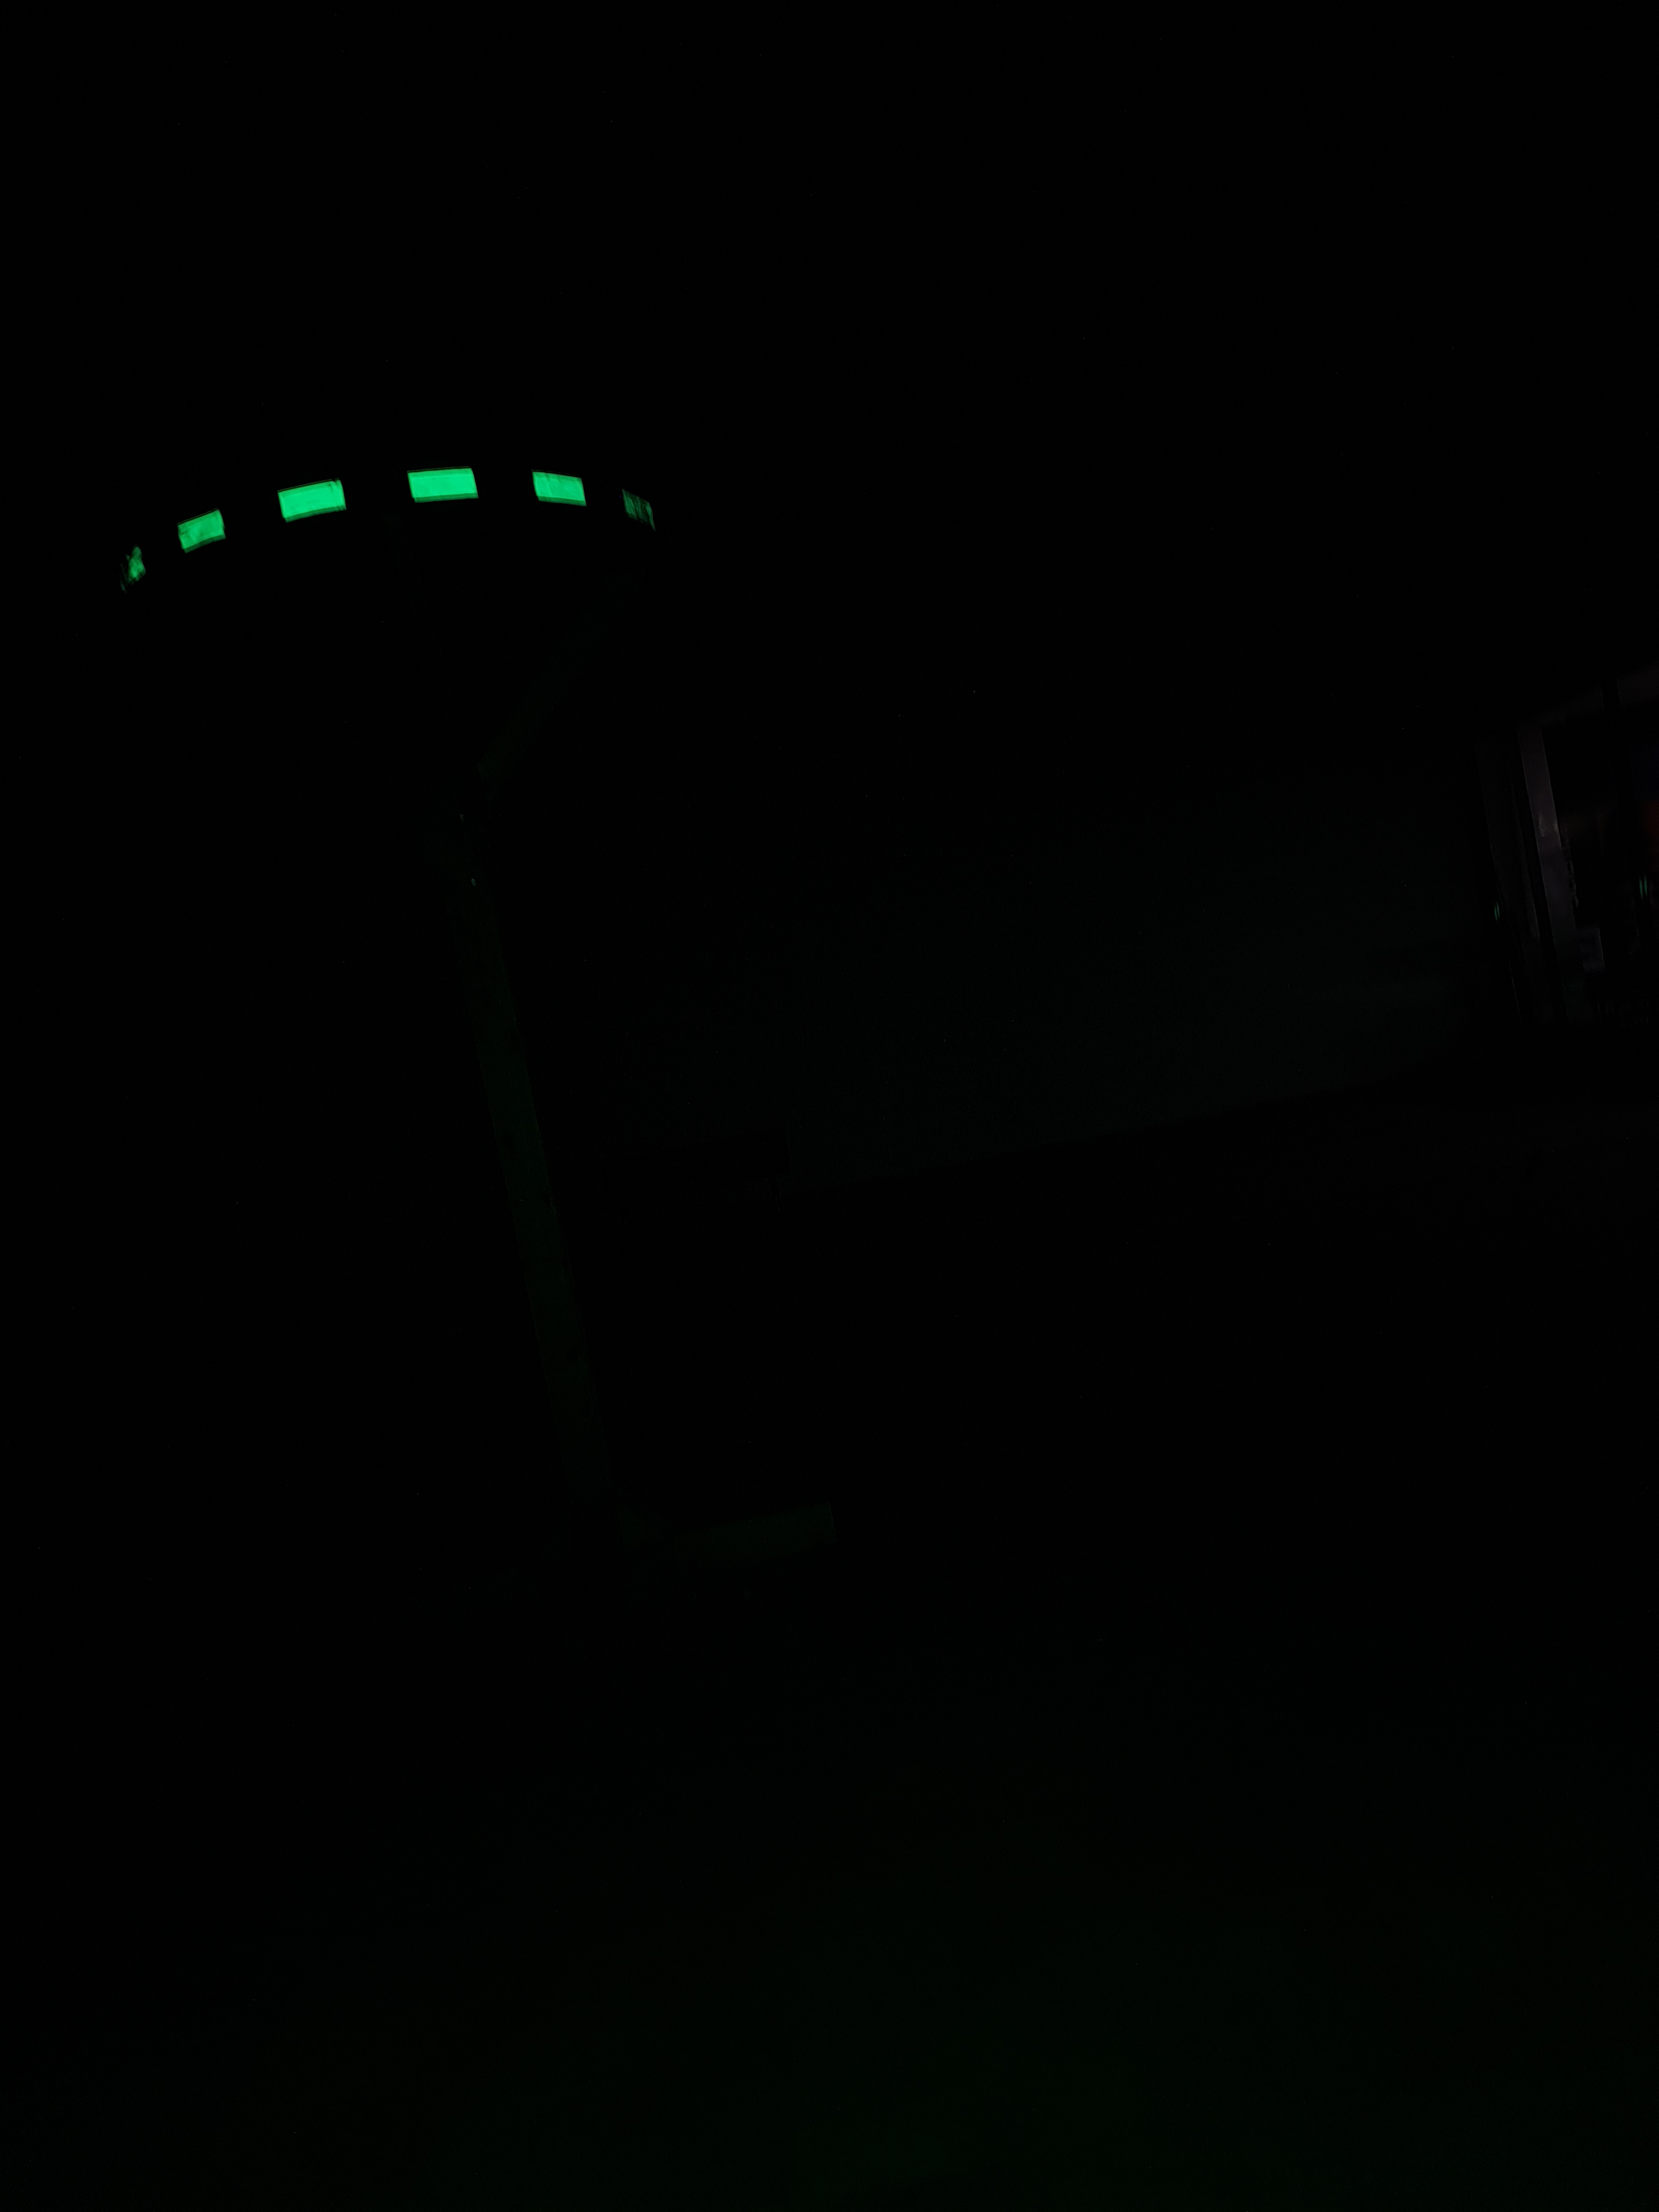hoop: (101, 458, 657, 599)
